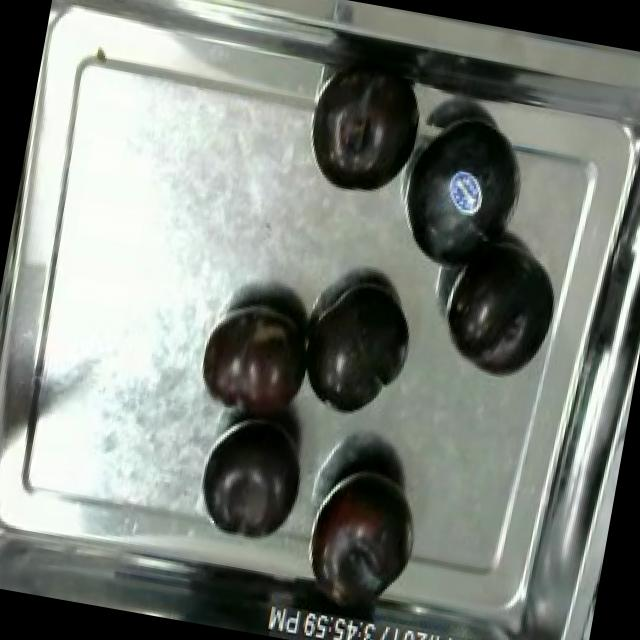Fruit: (382, 102, 536, 287), (294, 446, 434, 618), (431, 231, 572, 393), (292, 267, 428, 430), (298, 56, 430, 210), (191, 404, 316, 552), (192, 289, 320, 432)
